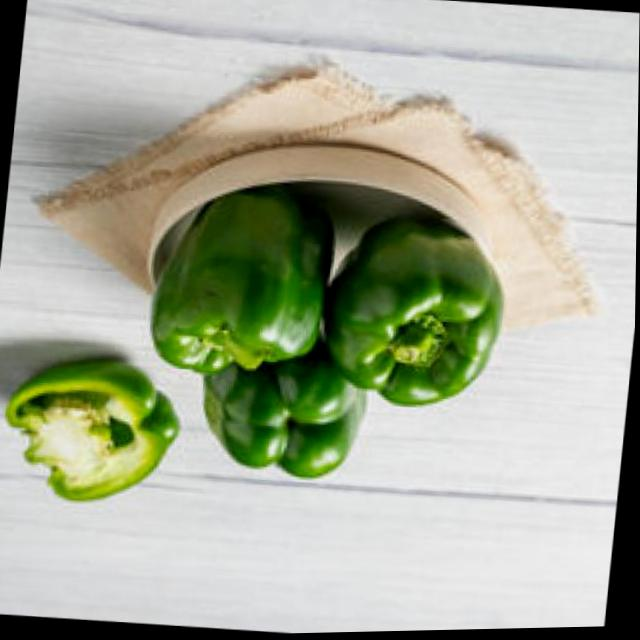Capsicum: (322, 209, 509, 412), (150, 186, 334, 376), (4, 354, 181, 507), (197, 362, 370, 483)
